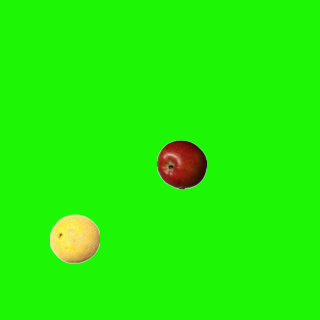Apple Braeburn: (156, 139, 206, 189)
Cantaloupe 1: (49, 213, 99, 263)
